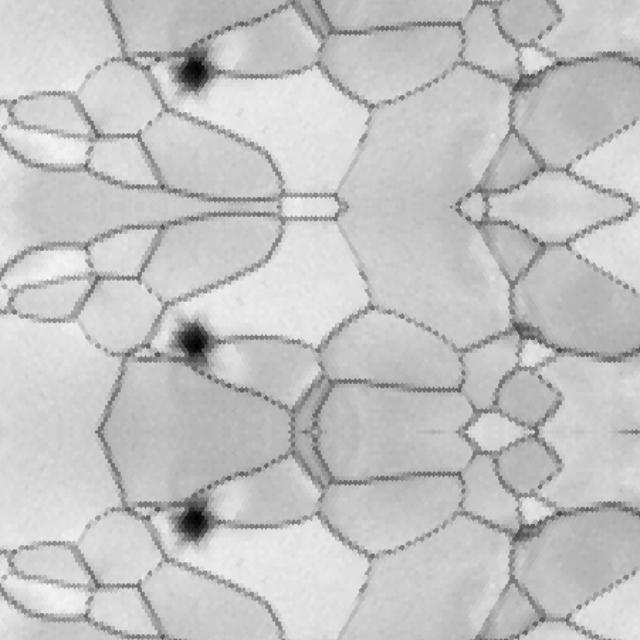good_void: (164, 306, 228, 377), (164, 489, 228, 560), (164, 38, 228, 109), (505, 321, 548, 345), (505, 521, 548, 545), (505, 70, 548, 94)
